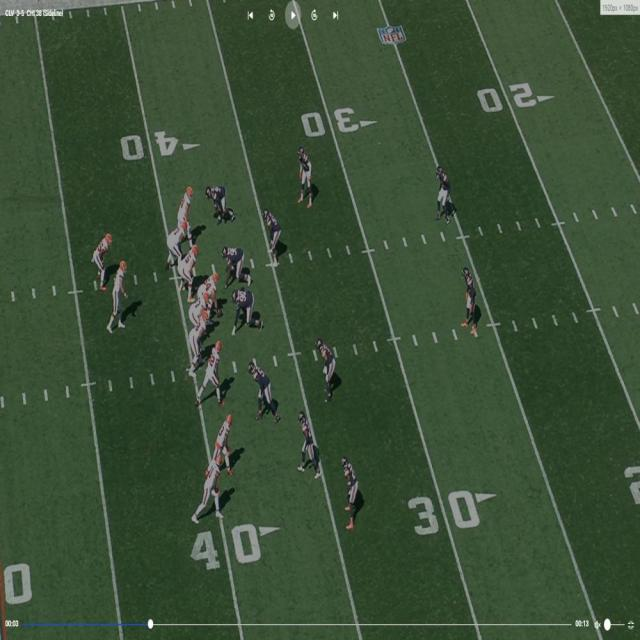center: (201, 268, 223, 311)
db: (344, 452, 360, 522), (436, 163, 452, 224), (297, 145, 314, 202), (464, 267, 479, 331)
lb: (298, 410, 321, 475), (321, 343, 338, 403), (267, 208, 283, 262)
qb: (110, 260, 129, 333)
skill: (202, 338, 225, 406), (198, 456, 222, 518), (215, 414, 234, 473), (95, 231, 112, 284), (177, 186, 195, 229)
